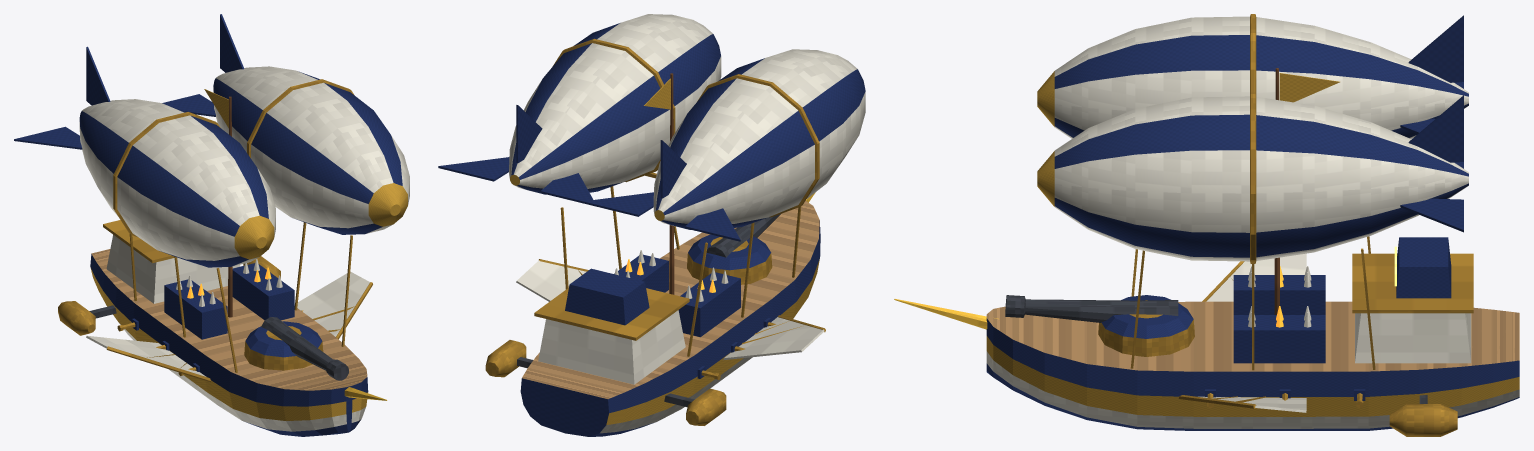
Rendered from SM_Ship_ArmadaFrigate_HQ.glb.
The picture shows the model from 3 angles, left to right: view 1: azimuth 30°, elevation 25°; view 2: azimuth 150°, elevation 25°; view 3: azimuth 270°, elevation 25°; orthographic projection. The views are drawn at different scales.
Visible parts, largest first — view 1: SM_Ship_ArmadaFrigate_HQ; view 2: SM_Ship_ArmadaFrigate_HQ; view 3: SM_Ship_ArmadaFrigate_HQ.
Part boxes in pixels (x1,y1,x2,y2): SM_Ship_ArmadaFrigate_HQ: (14, 14, 409, 436); SM_Ship_ArmadaFrigate_HQ: (438, 14, 865, 436); SM_Ship_ArmadaFrigate_HQ: (894, 14, 1519, 436).
Bounding box in the file's own units: 16.32 × 16.4 × 25.81.
1 material, 1 textured.
